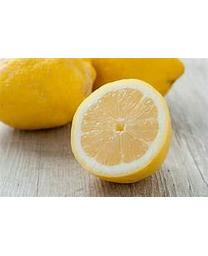lemon: (72, 79, 173, 183)
